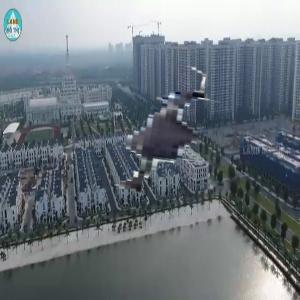drone: (45, 43, 234, 232)
